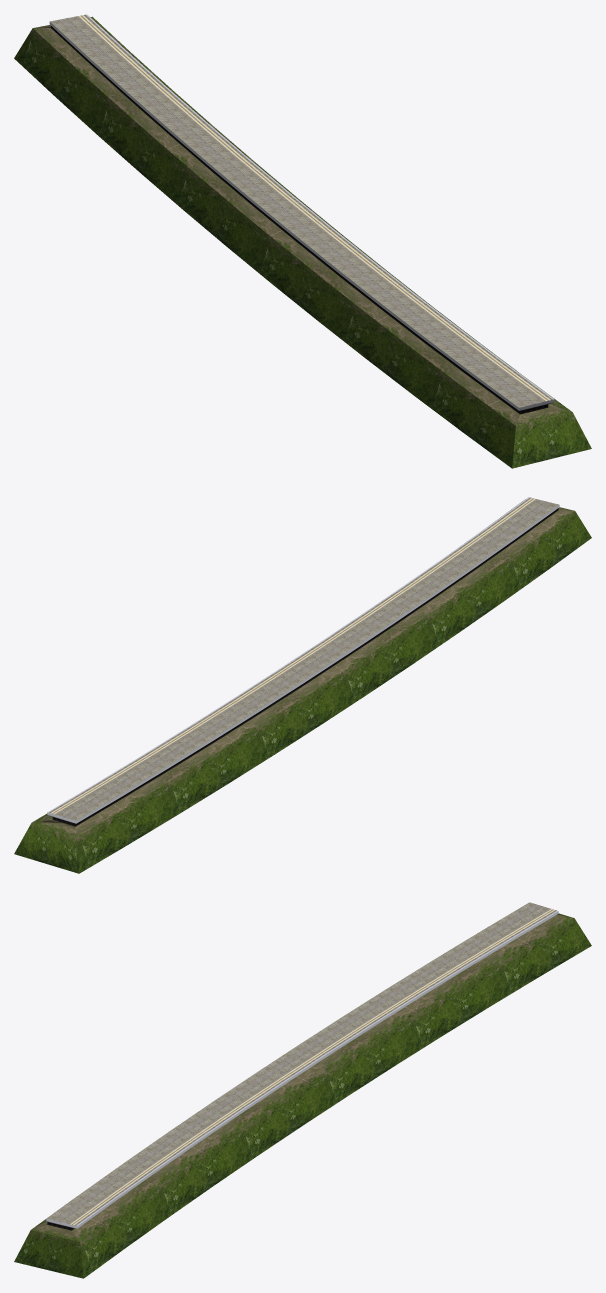
The model's file is platform_rus_-1l.gltf.
The picture shows the model from 3 angles, top to bottom: view 1: azimuth 30°, elevation 25°; view 2: azimuth 150°, elevation 25°; view 3: azimuth 330°, elevation 25°; orthographic projection. The views are drawn at different scales.
Bounding box in the file's own units: 14.22 × 4.75 × 106.
1 material, 1 textured.
